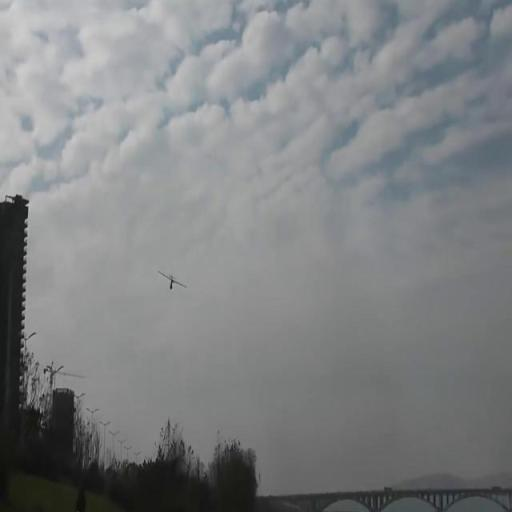uav: (158, 270, 186, 292)
